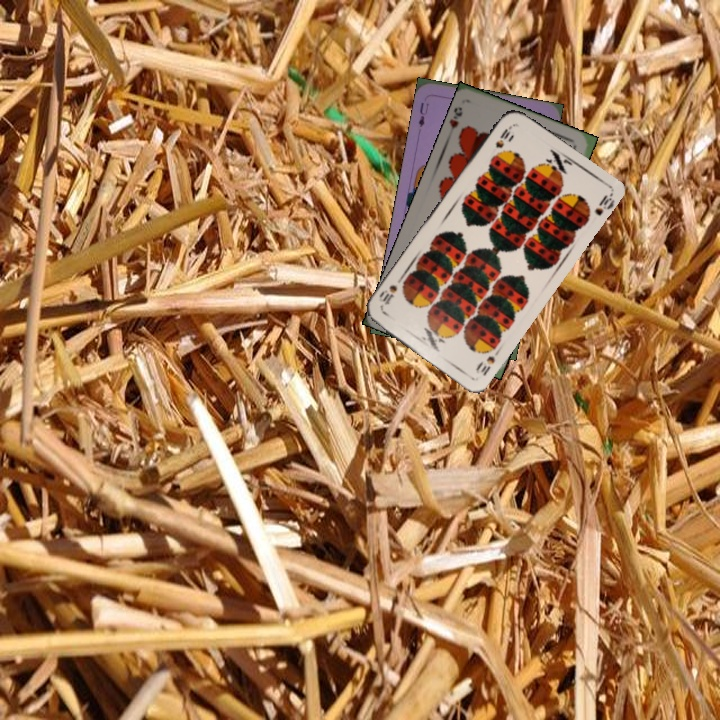EU: (414, 98, 431, 130)
H9: (446, 103, 465, 132)
S10: (472, 344, 503, 378), (491, 121, 515, 151)
